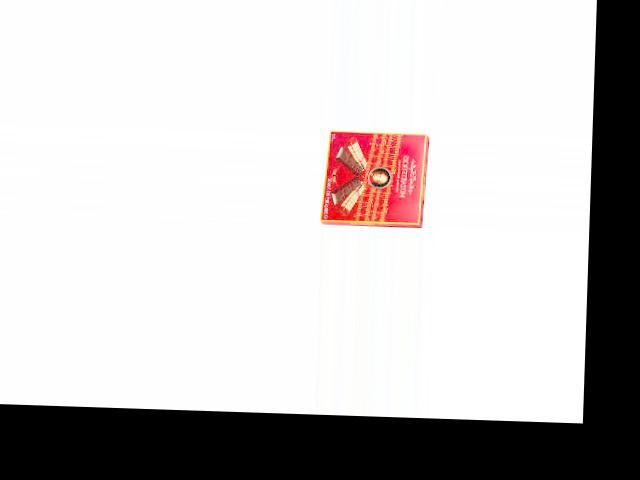chocolate: (317, 128, 427, 228)
